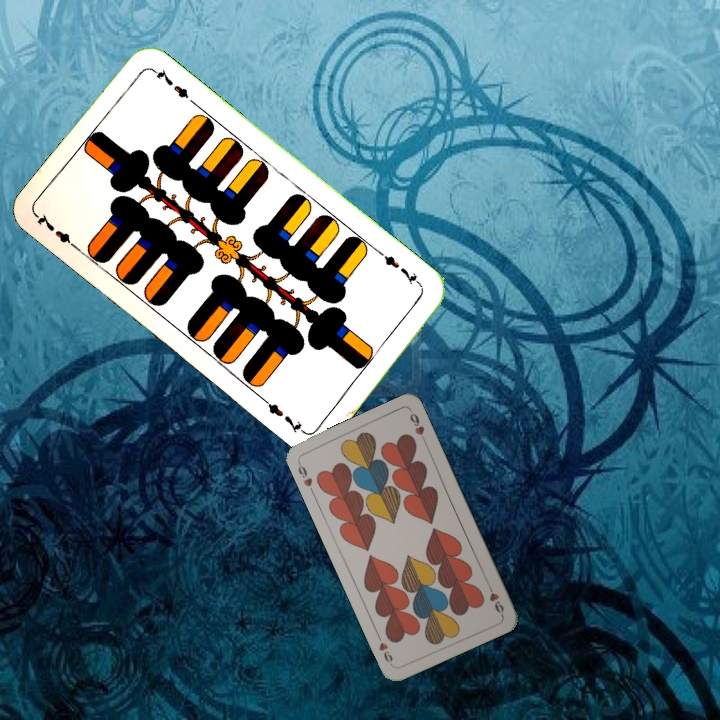E7: (33, 209, 82, 253), (375, 248, 425, 290)
H9: (483, 579, 507, 618), (294, 458, 316, 496)
